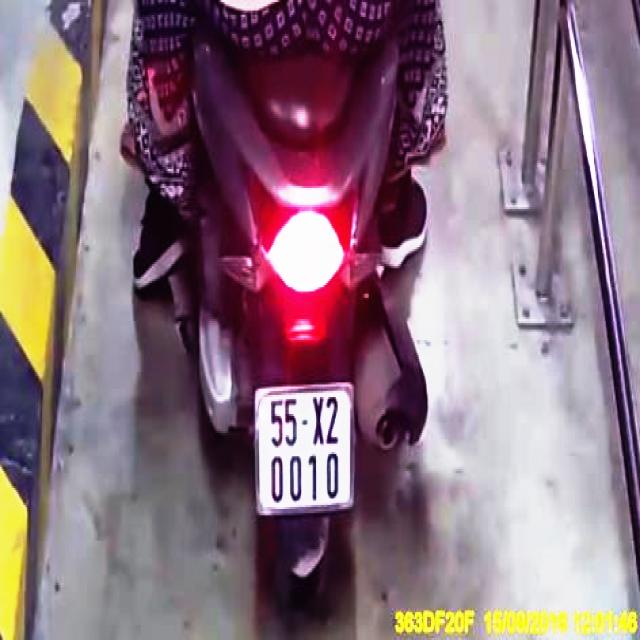license_plate: (258, 388, 353, 510)
